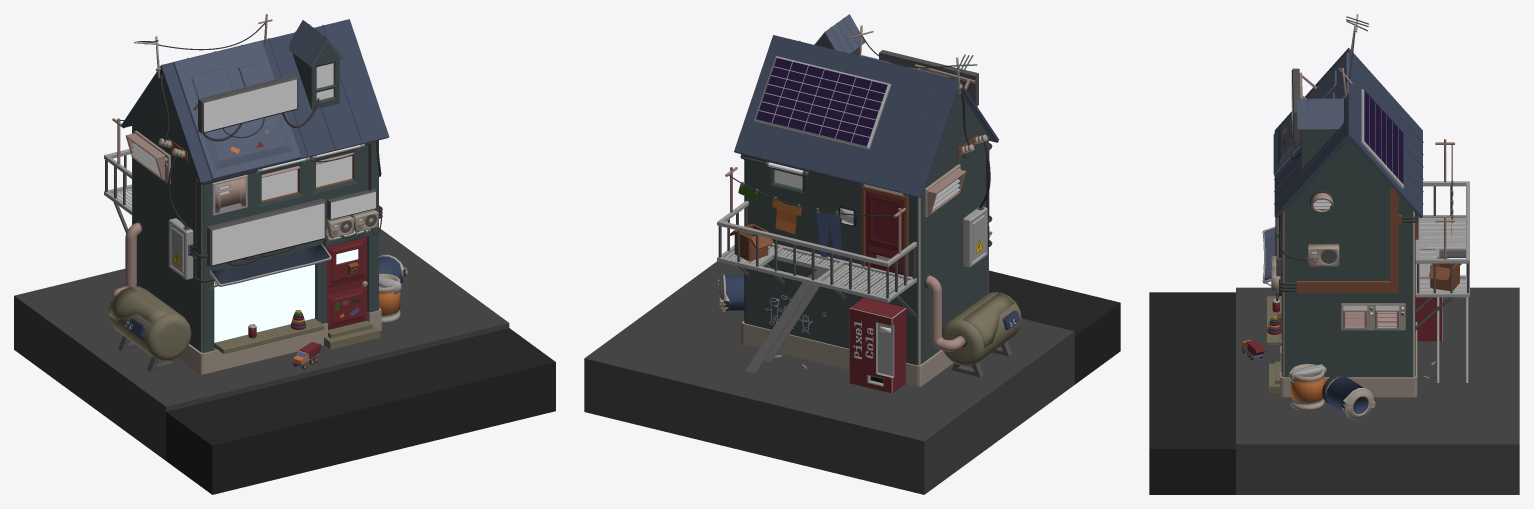
Rendered from House5.fbx.
The picture shows the model from 3 angles, left to right: view 1: azimuth 30°, elevation 25°; view 2: azimuth 150°, elevation 25°; view 3: azimuth 270°, elevation 25°; orthographic projection. The views are drawn at different scales.
Parts seen in each view (by area): view 1: Plane.115; view 2: Plane.115; view 3: Plane.115.
Part boxes in pixels (x1,y1,x2,y2): Plane.115: [14, 14, 555, 494]; Plane.115: [584, 14, 1120, 494]; Plane.115: [1149, 14, 1519, 494].
Bounding box in the file's own units: 703 × 717 × 703.
